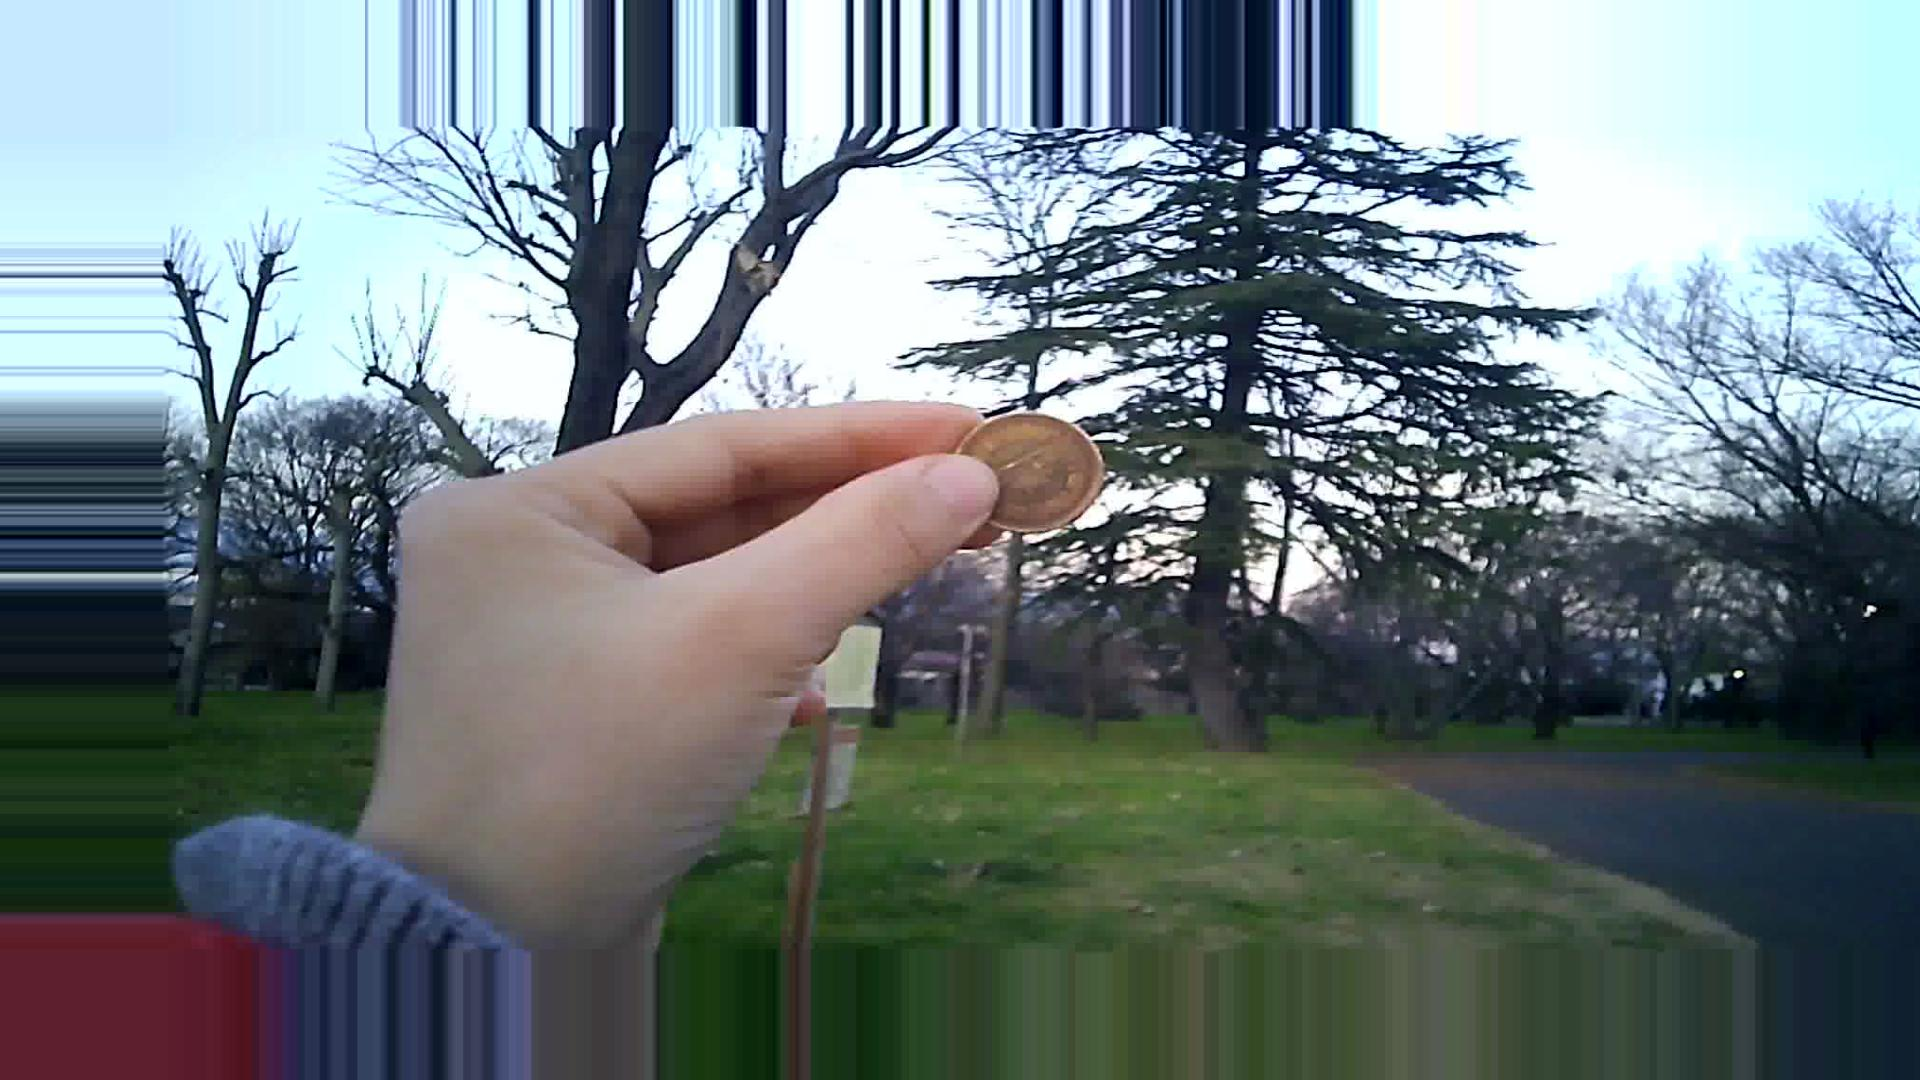10 Yen: (953, 397, 1102, 535)
